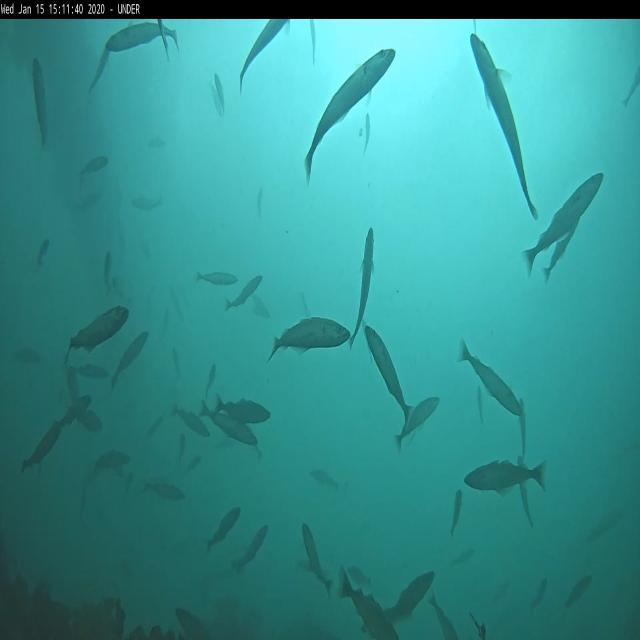fish: (470, 32, 540, 219), (304, 45, 394, 186), (521, 172, 605, 276), (457, 332, 522, 416), (339, 562, 402, 640), (366, 324, 414, 426), (238, 20, 288, 95), (271, 316, 351, 362), (65, 304, 129, 354), (386, 568, 436, 630), (541, 209, 584, 281), (200, 398, 258, 448), (350, 229, 374, 348), (394, 396, 440, 458), (464, 459, 544, 492), (300, 520, 334, 596), (111, 327, 149, 387), (22, 418, 64, 471), (106, 25, 177, 53), (234, 522, 270, 576), (218, 392, 269, 426), (31, 51, 50, 142), (170, 402, 210, 442), (224, 273, 263, 311), (208, 508, 240, 551), (516, 456, 536, 524), (59, 391, 92, 432), (430, 595, 460, 638), (88, 51, 110, 95), (141, 480, 184, 502), (567, 574, 591, 610), (94, 450, 130, 473), (196, 267, 239, 286), (518, 396, 530, 462), (622, 65, 640, 109), (308, 466, 338, 492), (76, 406, 102, 435), (530, 575, 549, 614), (80, 152, 108, 178), (130, 194, 166, 213), (102, 250, 115, 298), (474, 381, 487, 426), (450, 493, 462, 539), (204, 362, 217, 399), (38, 235, 52, 269), (213, 72, 224, 111), (310, 22, 318, 67), (364, 110, 371, 158)
